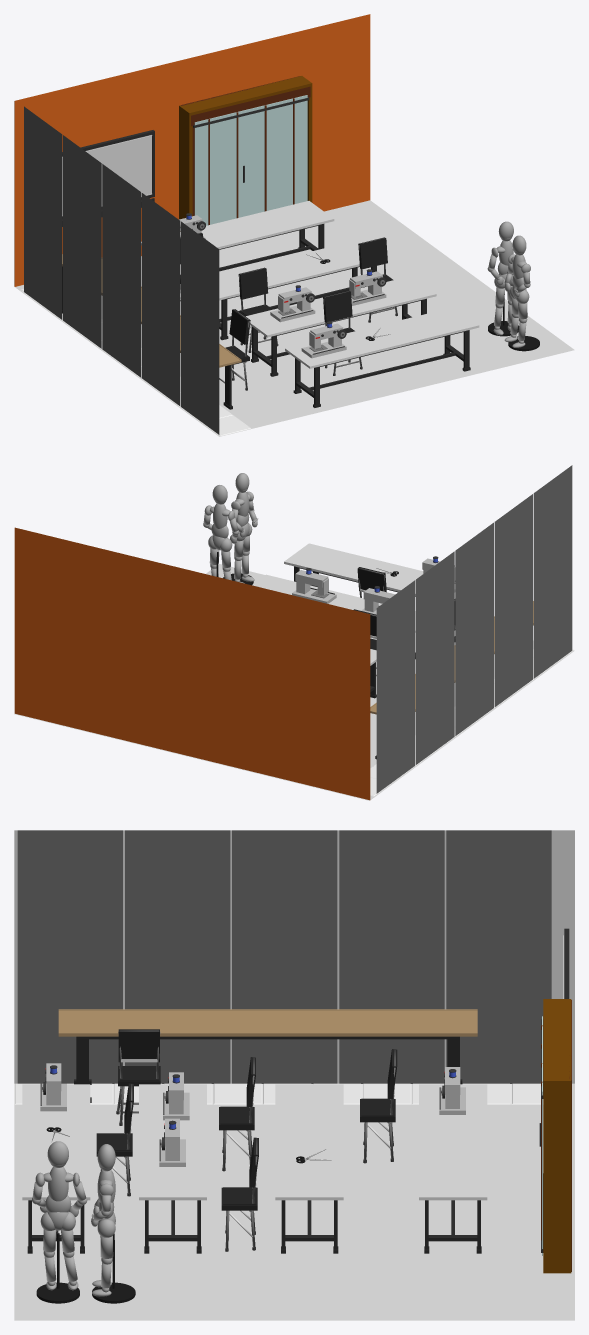
The model's file is lab pola dan jahit.glb.
The picture shows the model from 3 angles, top to bottom: view 1: azimuth 30°, elevation 25°; view 2: azimuth 150°, elevation 25°; view 3: azimuth 270°, elevation 25°; orthographic projection. The views are drawn at different scales.
Visible parts, largest first — view 1: Plane.001, Plane, Door Handle 1, Plane.004, Plane.005, Plane.002, Plane.007, Plane.006, Back Lower Support.003, Back Lower Support, Back Lower Support.001, Back Lower Support.002 (+9 smaller); view 2: Plane.001, Plane.007, Plane.002, Plane.005, Plane.006, Plane.004, Back Lower Support.003, Mannequin Base.001, Mannequin Base, Plane, Back Lower Support.002, Plane.003 (+1 smaller); view 3: Plane, Plane.007, Plane.002, Plane.005, Plane.006, Plane.004, Table Leg 4, Back Lower Support.001, Door Handle 1, Back Lower Support, Back Lower Support.002, Back Lower Support.003 (+8 smaller).
Part boxes in pixels (x1,y1,x2,y2): Plane.001: (14, 14, 370, 286); Plane: (14, 101, 574, 436); Door Handle 1: (179, 76, 312, 231); Plane.004: (141, 193, 180, 405); Plane.005: (102, 164, 140, 377); Plane.002: (181, 221, 219, 434); Plane.007: (24, 106, 62, 319); Plane.006: (63, 135, 101, 348); Back Lower Support.003: (285, 307, 479, 407); Back Lower Support: (141, 201, 334, 271); Back Lower Support.001: (219, 239, 376, 340); Back Lower Support.002: (246, 275, 436, 376); Plane.001: (14, 527, 370, 800); Plane.007: (376, 580, 415, 793); Plane.002: (533, 465, 572, 678); Plane.005: (455, 522, 493, 735); Plane.006: (416, 551, 454, 764); Plane.004: (494, 494, 532, 706); Back Lower Support.003: (284, 543, 455, 630); Mannequin Base.001: (203, 485, 238, 580); Mannequin Base: (223, 473, 258, 585); Plane: (14, 564, 574, 800); Back Lower Support.002: (252, 574, 415, 659); Plane.003: (370, 649, 573, 796); Plane: (14, 830, 574, 1320); Plane.007: (446, 830, 551, 1083); Plane.002: (17, 830, 122, 1083); Plane.005: (232, 830, 337, 1083); Plane.006: (339, 830, 444, 1083); Plane.004: (125, 830, 230, 1083); Table Leg 4: (58, 1009, 477, 1102); Back Lower Support.001: (275, 1084, 343, 1253); Door Handle 1: (539, 999, 571, 1273); Back Lower Support: (419, 1084, 487, 1253); Back Lower Support.002: (139, 1084, 206, 1253); Back Lower Support.003: (22, 1084, 90, 1253).
Size of the model in its own units: 2 by 1 by 2.
